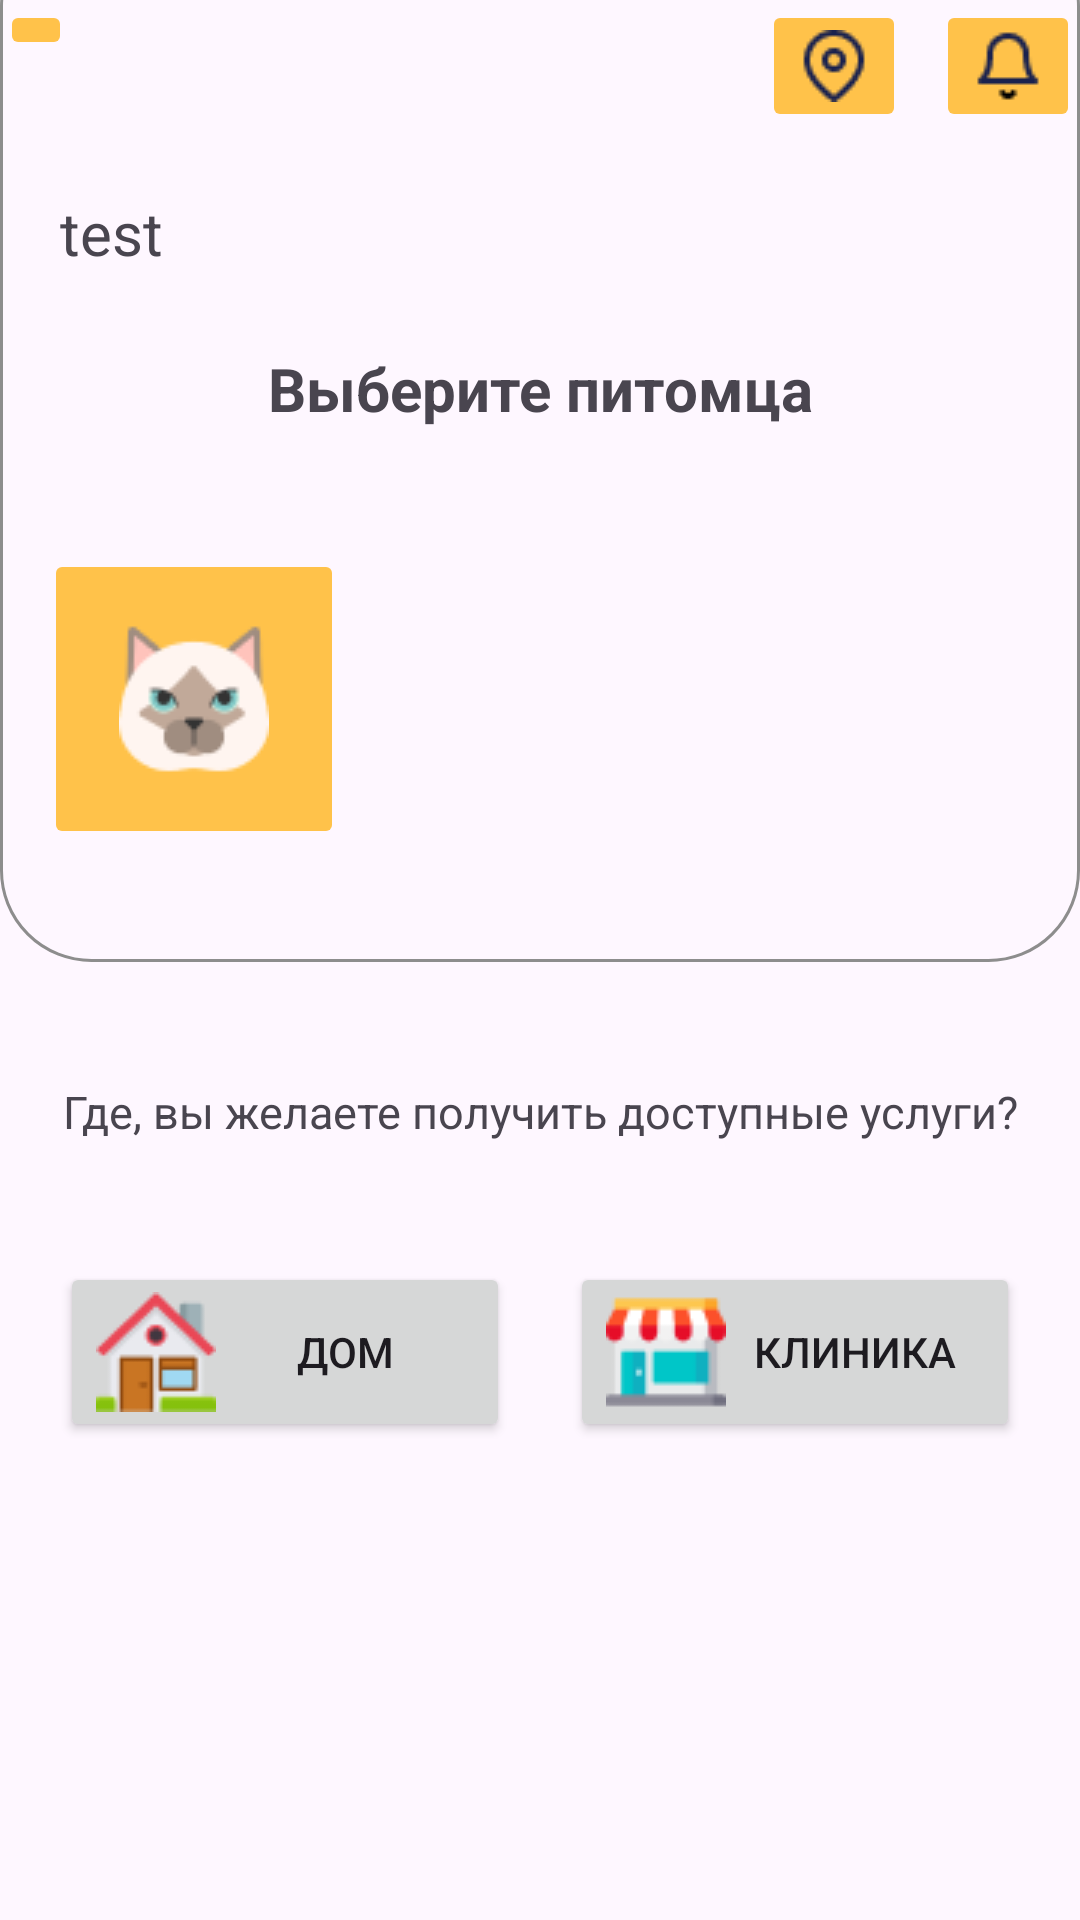

Named icons in this screenshot (1080×1920) and their bounding boxes, rect(x1, y1, x2, y2):
bell: rect(948, 18, 1068, 114)
cat: rect(56, 567, 332, 831)
map: rect(774, 18, 894, 114)
